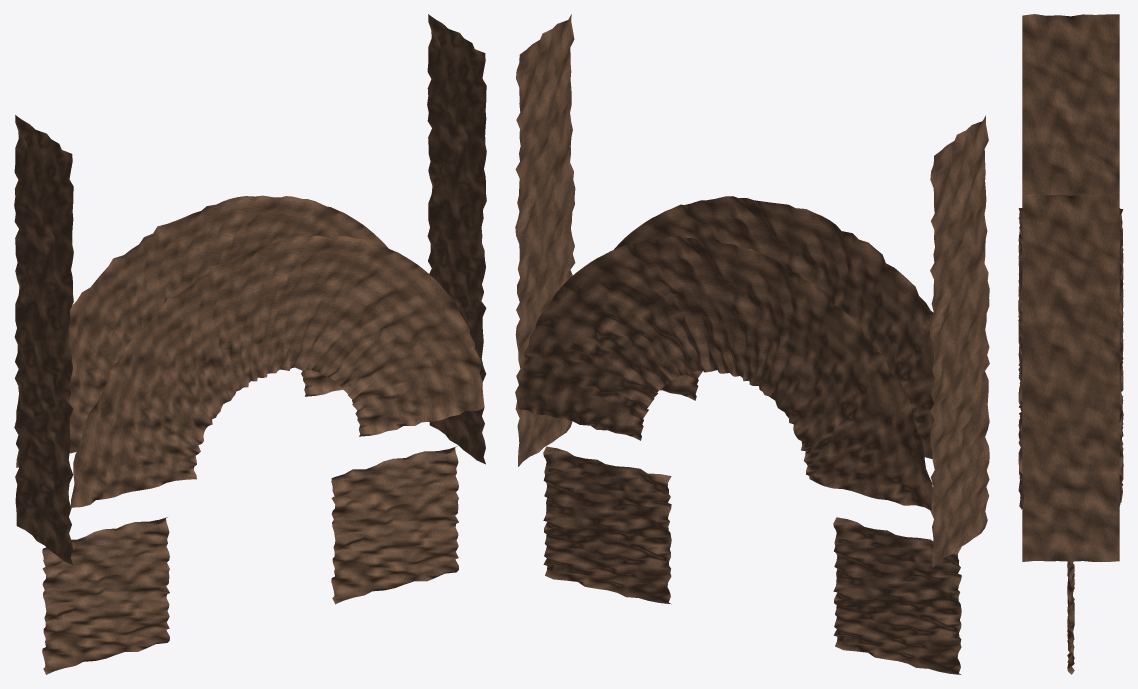
File: OrganicArchLarge.obj
3 views of the same model, side by side, from view 1: azimuth 30°, elevation 25°; view 2: azimuth 150°, elevation 25°; view 3: azimuth 270°, elevation 25° (orthographic). The views are drawn at different scales.
Visible parts, largest first — view 1: OrganicArchLarge_HD; view 2: OrganicArchLarge_HD; view 3: OrganicArchLarge_HD.
Part boxes in pixels (x1,y1,x2,y2): OrganicArchLarge_HD: [14, 14, 486, 674]; OrganicArchLarge_HD: [515, 14, 989, 674]; OrganicArchLarge_HD: [1018, 14, 1123, 674].
Bounding box in the file's own units: 2.13 × 2.62 × 0.5199.
1 material, 1 textured.
